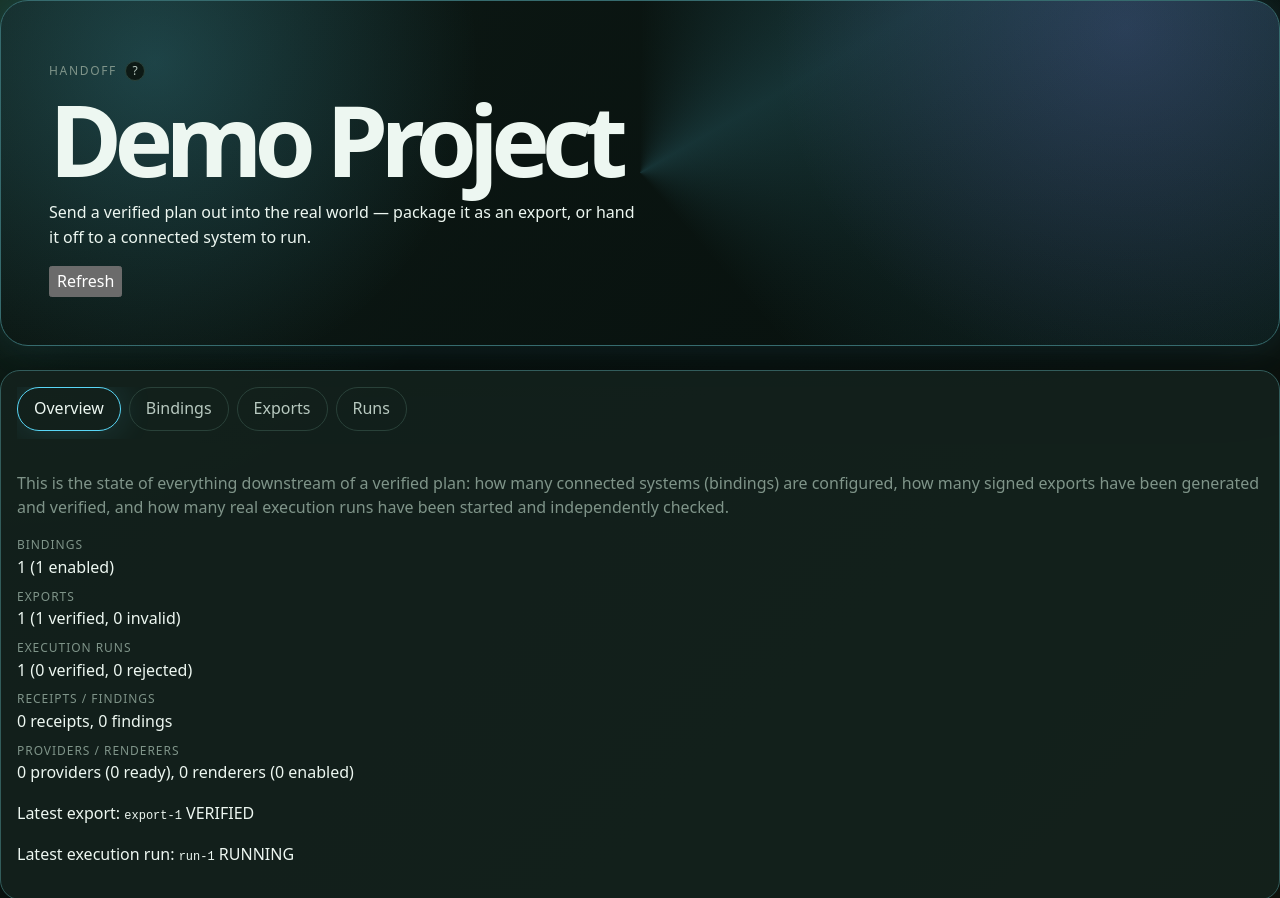
it: HandoffWorkspace › only allows downloading a verified export, fetches links automatically, and never persists the signed URL beyond the click
Step 1. Click the tab "Exports" → (282, 409), box top-left (237, 387), bottom-right (328, 431)
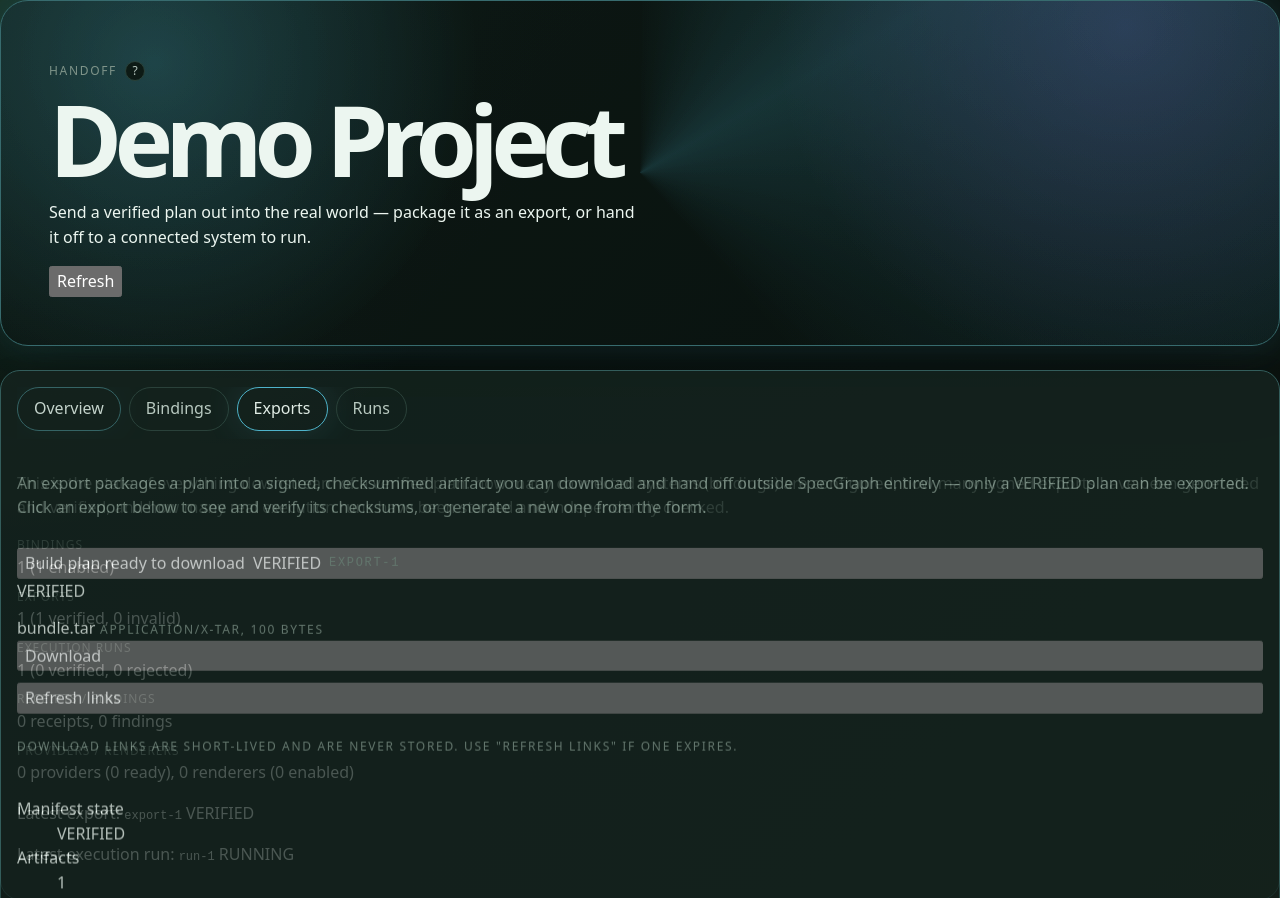
Expected: the text "bundle.tar" is shown, top-left (17, 617), bottom-right (95, 639)
